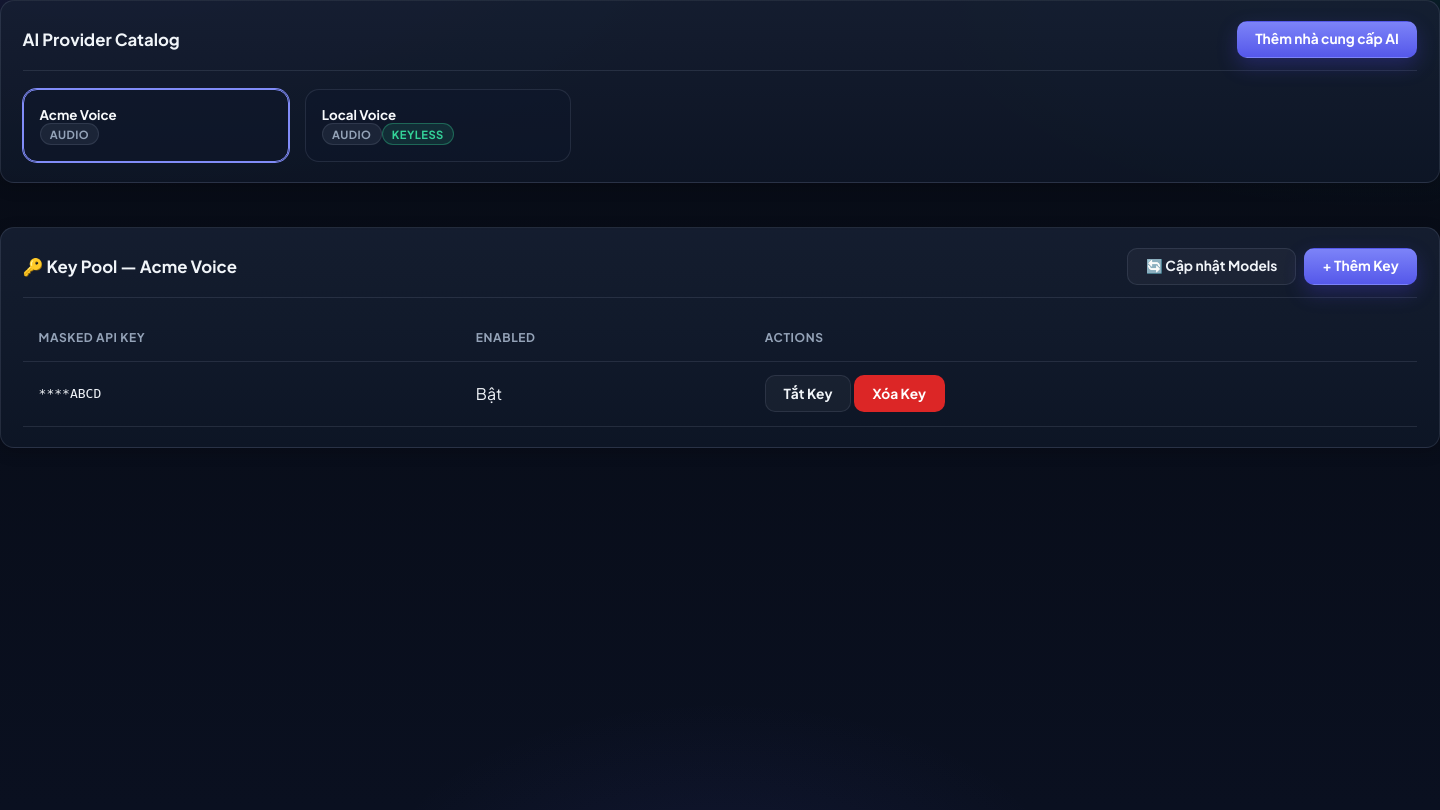
Test: clears plaintext and hides raw backend errors on failed add
Check: the button "Acme Voice audio" is shown, box top-left (23, 89), bottom-right (289, 162)
Click the button "+ Thêm Key" at (1361, 266), box top-left (1304, 248), bottom-right (1417, 285)
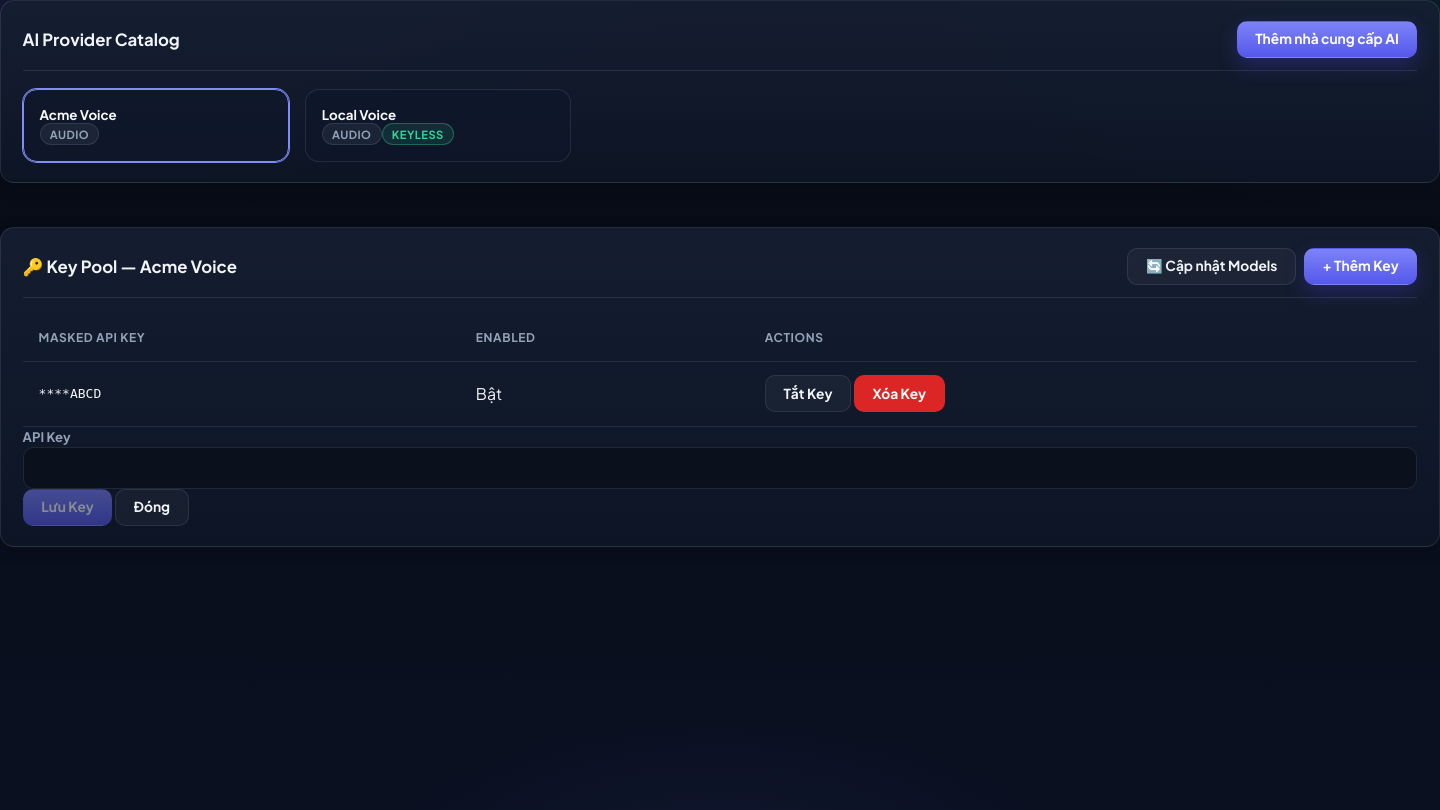
Type "synthetic-secret-private" into the password field labelled "API Key" at (720, 468), box top-left (23, 447), bottom-right (1417, 489)
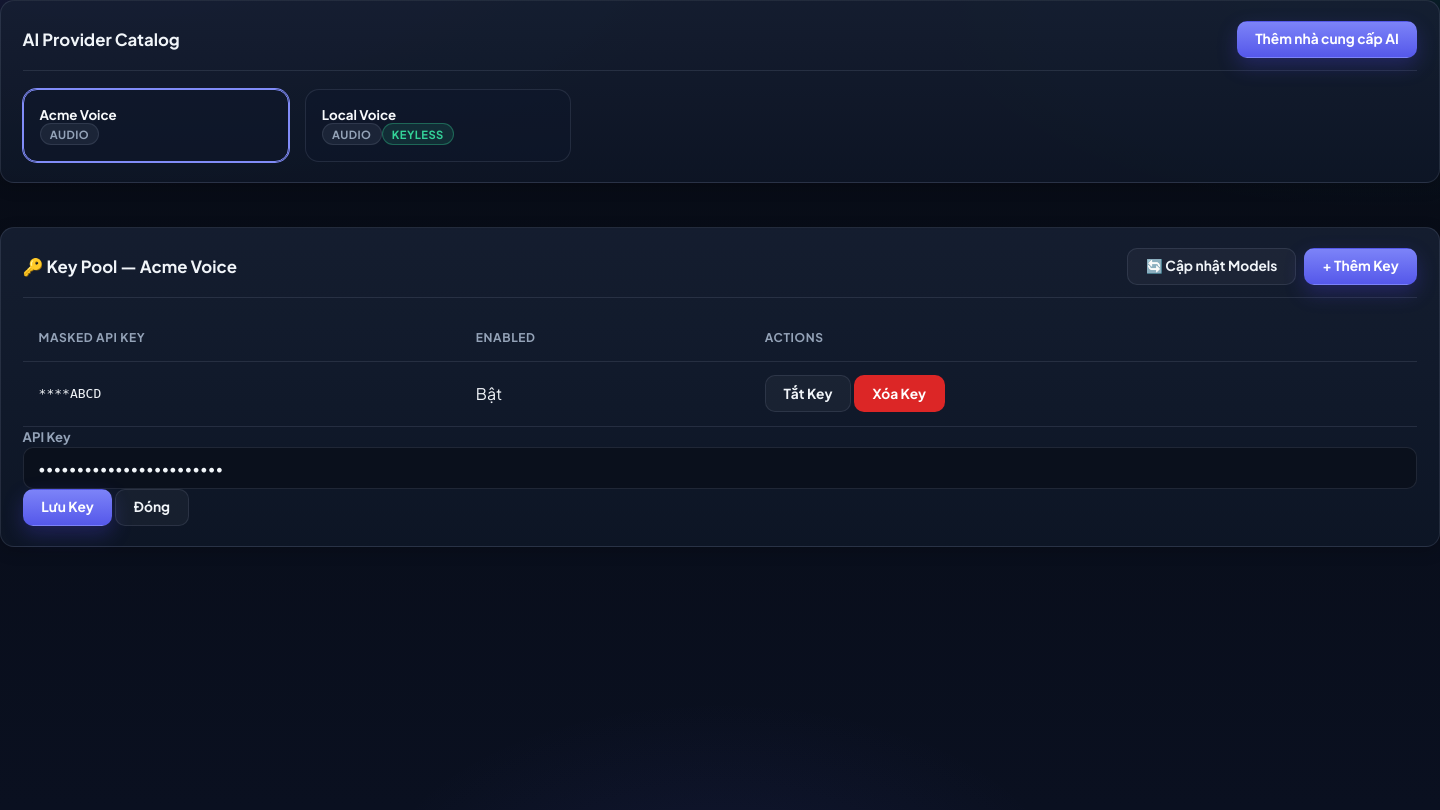
Click the button "Lưu Key" at (68, 507), box top-left (23, 489), bottom-right (112, 526)
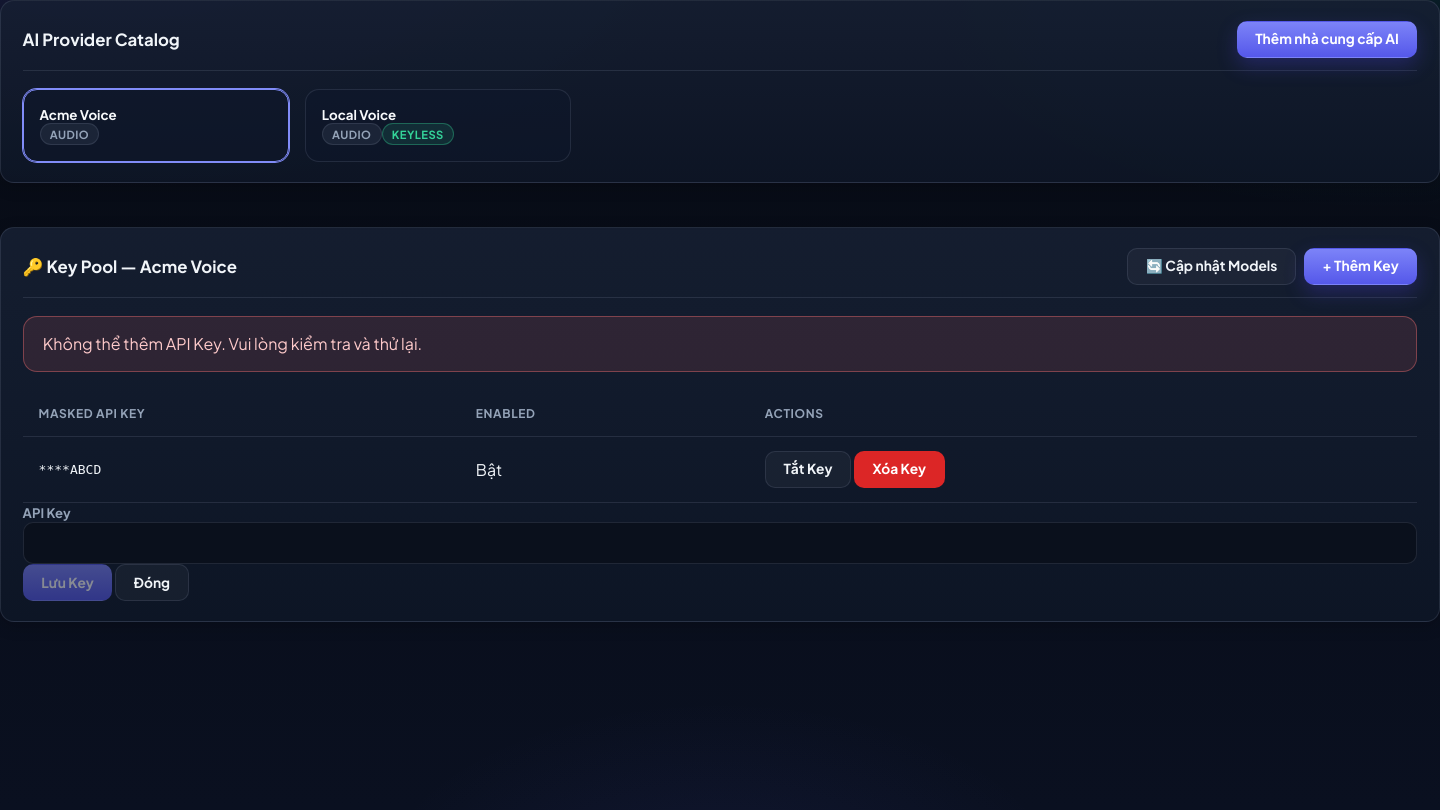
Check: the message "Không thể thêm API Key. Vui lòng kiểm tra và thử lại." is shown, box top-left (23, 316), bottom-right (1417, 372)
Check: the password field labelled "API Key" is empty, box top-left (23, 522), bottom-right (1417, 564)
